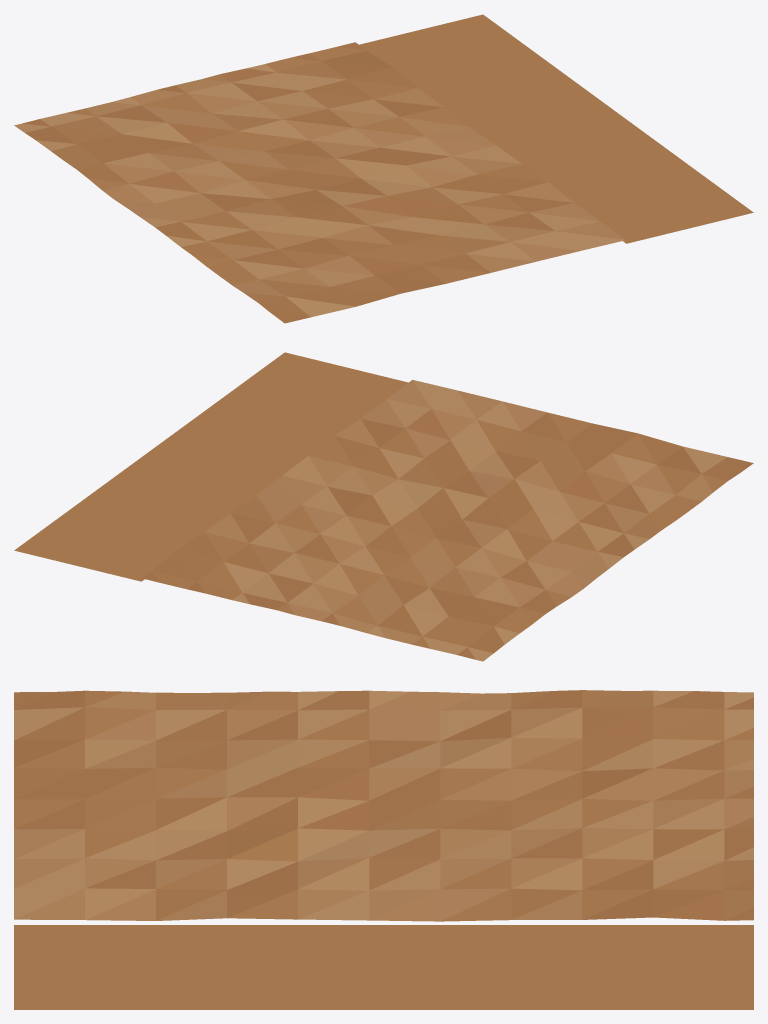
3 views of the same model, one above another, from view 1: azimuth 30°, elevation 25°; view 2: azimuth 150°, elevation 25°; view 3: azimuth 270°, elevation 25° (orthographic). The views are drawn at different scales.
Parts seen in each view (by area): view 1: baked; view 2: baked; view 3: baked.
Boxes of the visible parts, <box> form: baked: <box>14,14,753,323</box>; baked: <box>14,352,753,661</box>; baked: <box>14,690,753,1009</box>.
Size of the model in its own units: 125 by 1.39 by 125.
